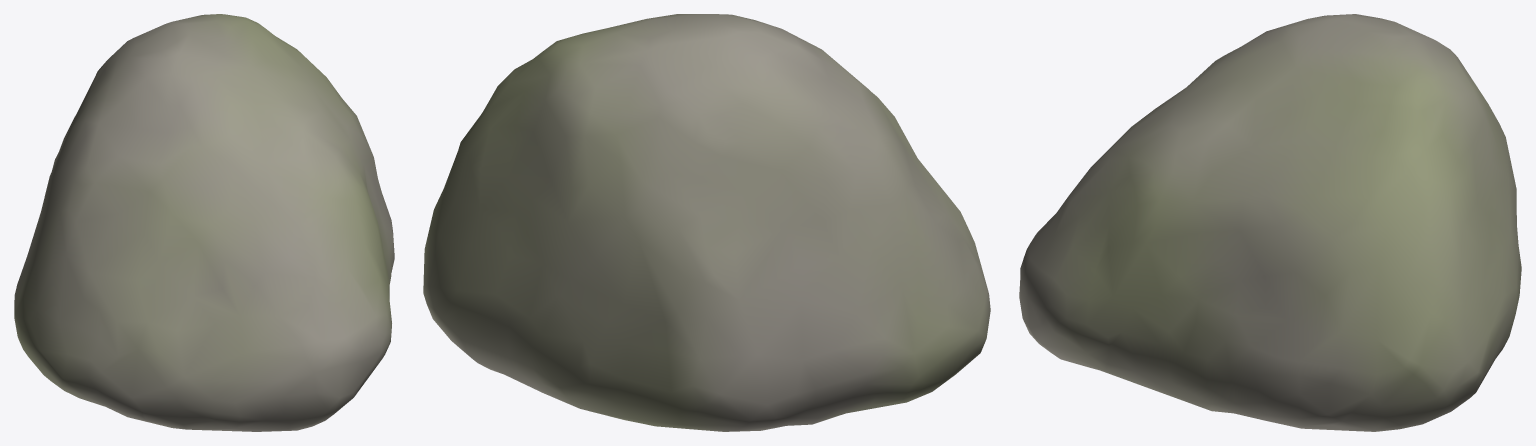
The model's file is rock_fast.glb.
3 views of the same model, side by side, from view 1: azimuth 30°, elevation 25°; view 2: azimuth 150°, elevation 25°; view 3: azimuth 270°, elevation 25° (orthographic). The views are drawn at different scales.
Visible parts, largest first — view 1: body; view 2: body; view 3: body.
Boxes of the visible parts, bbox=[...] form: body: bbox=[14, 14, 394, 431]; body: bbox=[423, 14, 990, 431]; body: bbox=[1019, 14, 1521, 431].
Size of the model in its own units: 0.8006 by 0.5993 by 0.8052.
